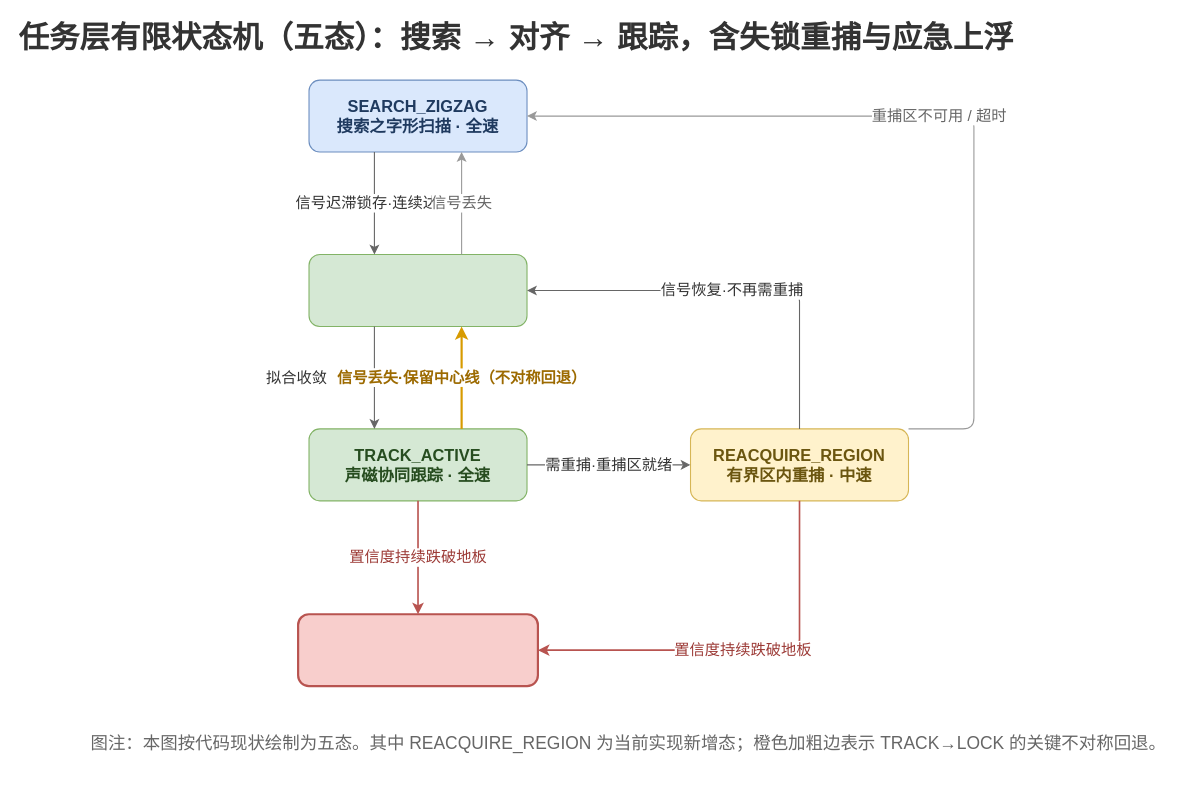
The diagram is 1186 pixels wide and 791 high, and some of its shapes have lost their labels. Here are the shapes that lost their labels. From the top down, the centre of each, then its label:
point 417,289: LOCK_ALIGN 对齐锁定 · 减速
point 417,650: EMERGENCY_SURFACE 应急上浮（终态·不可逆）· 速度归零
